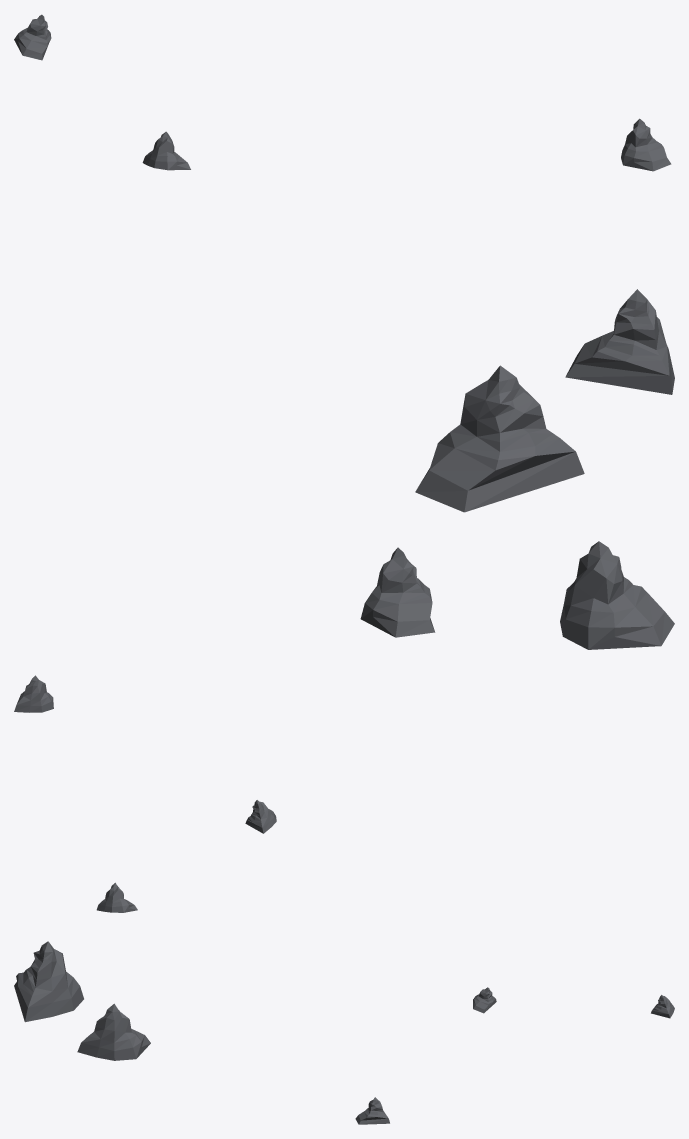
File: Piedras2.fbx
3 views of the same model, one above another, from view 1: azimuth 30°, elevation 25°; view 2: azimuth 150°, elevation 25°; view 3: azimuth 270°, elevation 25° (orthographic). The views are drawn at different scales.
Visible parts, largest first — view 1: SP_Mountain02.001; view 2: SP_Mountain02.001; view 3: SP_Mountain02.001.
Part boxes in pixels (bbox=[...]): SP_Mountain02.001: bbox=[14, 14, 674, 512]; SP_Mountain02.001: bbox=[14, 541, 674, 912]; SP_Mountain02.001: bbox=[14, 941, 674, 1124].
Size of the model in its own units: 20.66 by 4.13 by 39.27.
1 material, 1 textured.
